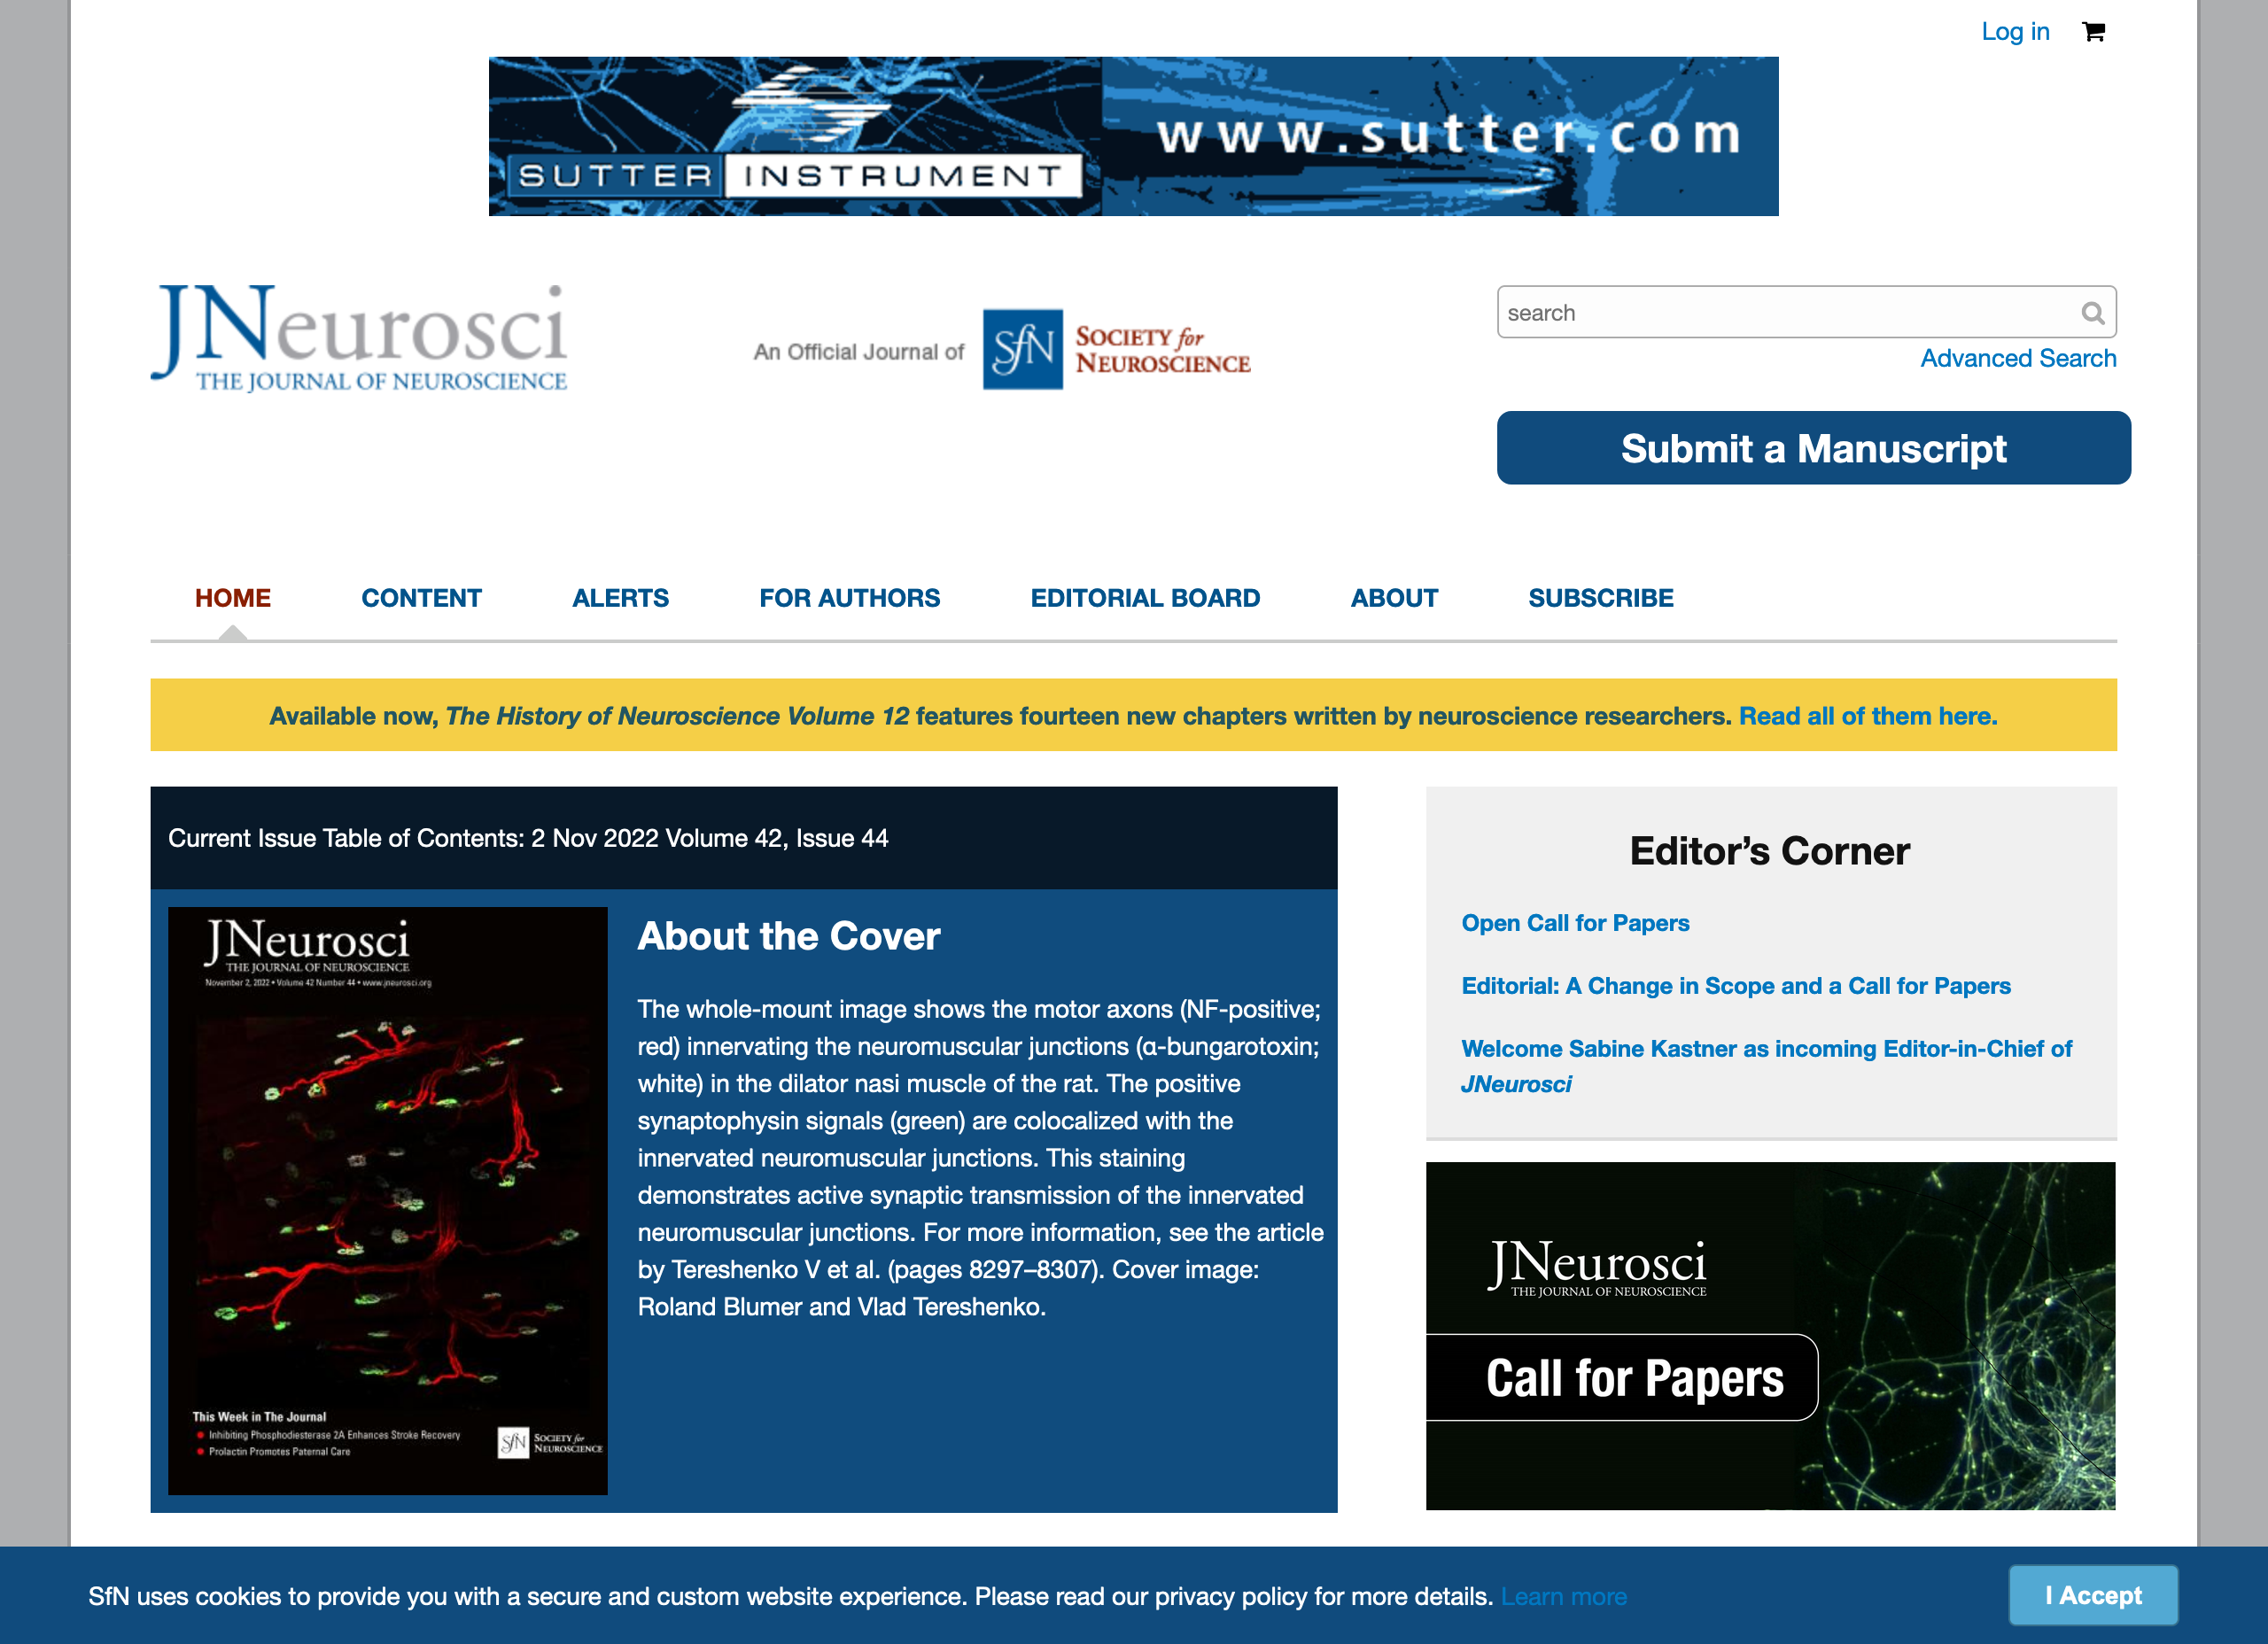Login: (1962, 0, 2065, 62)
